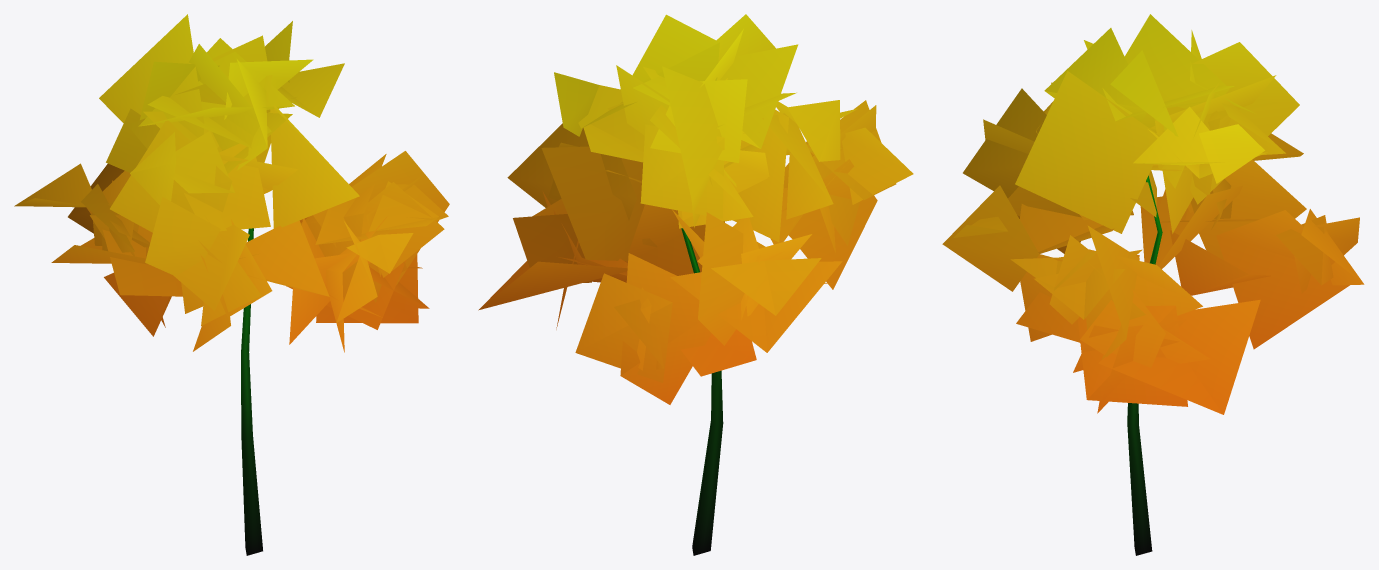
File: medium_birch_lod1.obj
The picture shows the model from 3 angles, left to right: view 1: azimuth 30°, elevation 25°; view 2: azimuth 150°, elevation 25°; view 3: azimuth 270°, elevation 25°; orthographic projection. The views are drawn at different scales.
Parts seen in each view (by area): view 1: MediumBirchLoD1; view 2: MediumBirchLoD1; view 3: MediumBirchLoD1.
Boxes of the visible parts, bbox=[...] form: MediumBirchLoD1: bbox=[14, 14, 449, 555]; MediumBirchLoD1: bbox=[478, 14, 913, 555]; MediumBirchLoD1: bbox=[942, 14, 1364, 555].
Bounding box in the file's own units: 20.93 × 28.85 × 21.46.
